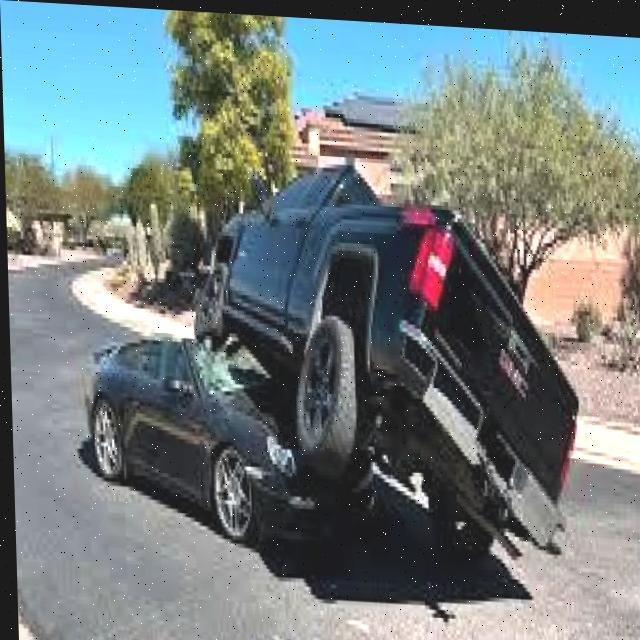multiple_accident: (184, 146, 534, 551)
